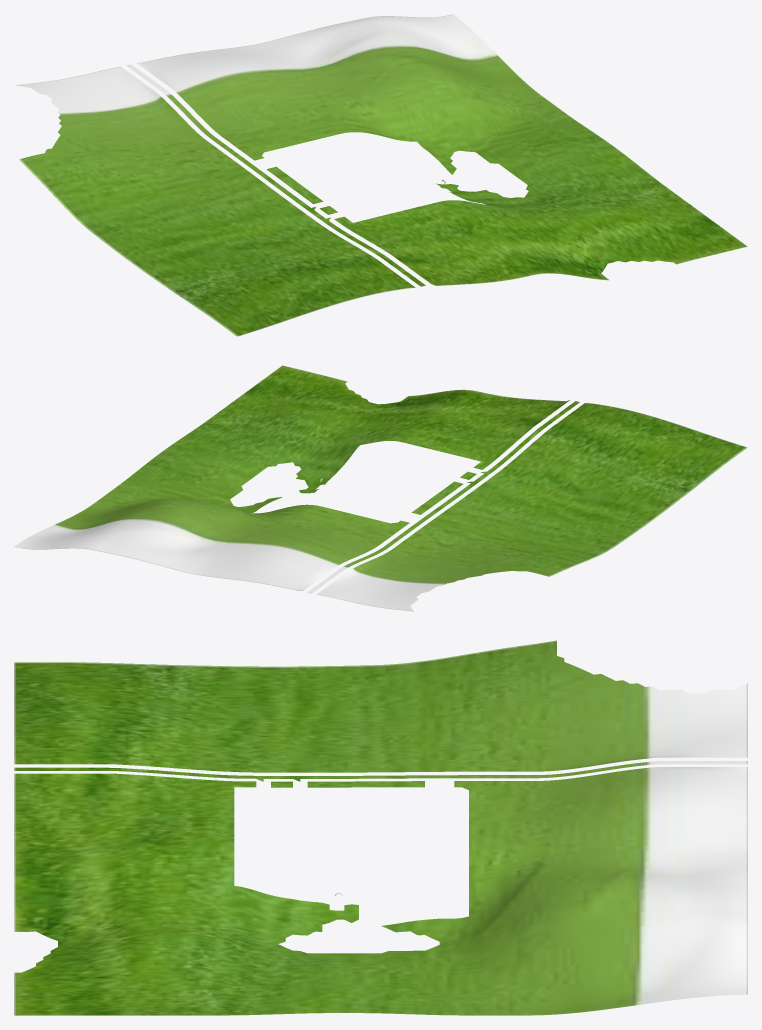
Rendered from grasslands.obj.
3 renders of one model, top to bottom at view 1: azimuth 30°, elevation 25°; view 2: azimuth 150°, elevation 25°; view 3: azimuth 270°, elevation 25°, orthographic. The views are drawn at different scales.
Parts seen in each view (by area): view 1: Grasslands_Factory.008; view 2: Grasslands_Factory.008; view 3: Grasslands_Factory.008.
Part boxes in pixels (left/top/right/bottom): Grasslands_Factory.008: left=15, top=14, right=747, bottom=336; Grasslands_Factory.008: left=14, top=365, right=747, bottom=611; Grasslands_Factory.008: left=14, top=640, right=747, bottom=1015.
Bounding box in the file's own units: 10000 × 999 × 10000.
